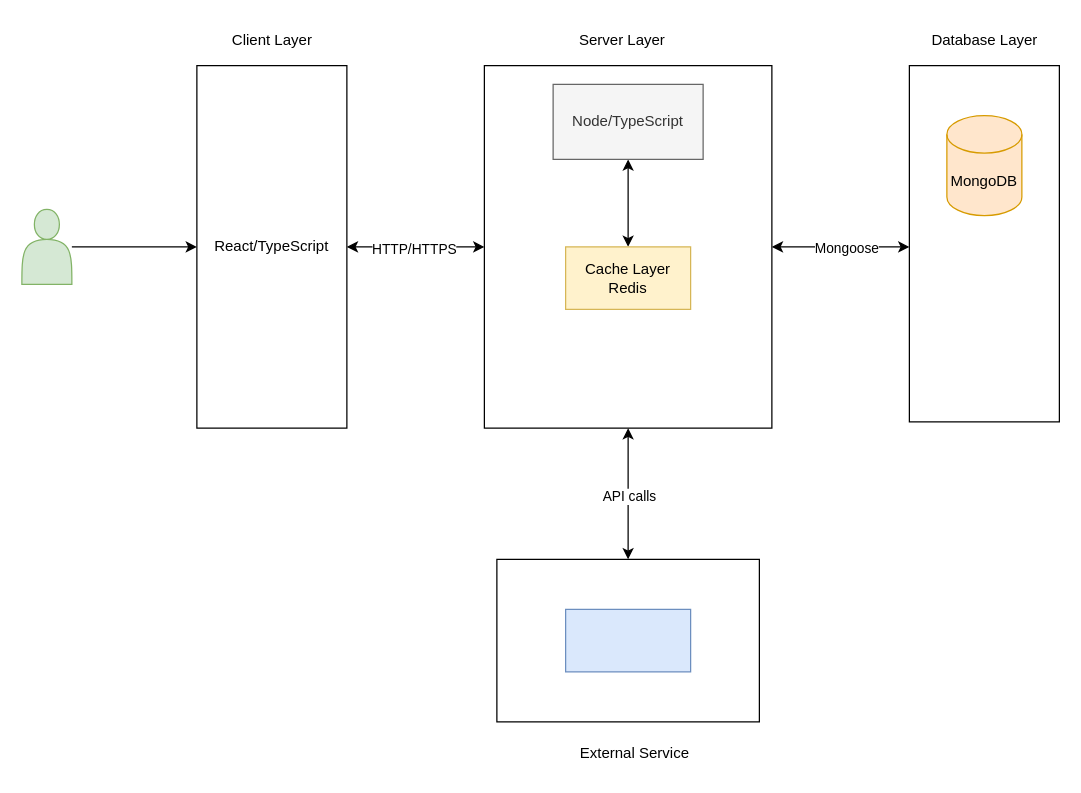
Some shapes in this 1081 by 793 pixel diagram are drawn without their labels. The shapes that lost their labels are listed below. From the top down, each one's box as (x1, y1, x2, y2) in pixels, then its label:
(908, 64, 1059, 422): Indexes
(564, 608, 691, 672): Open AI
